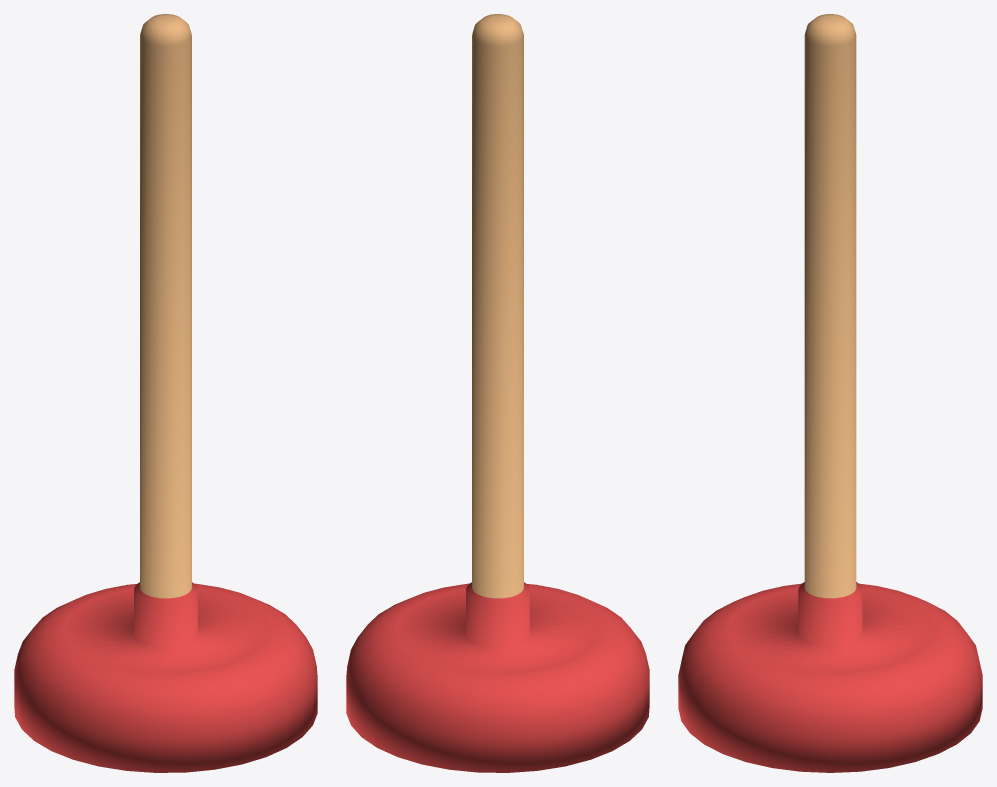
The model's file is plunger.glb.
3 renders of one model, left to right at view 1: azimuth 30°, elevation 25°; view 2: azimuth 150°, elevation 25°; view 3: azimuth 270°, elevation 25°, orthographic.
Parts seen in each view (by area): view 1: Cylinder; view 2: Cylinder; view 3: Cylinder.
Boxes of the visible parts, <box> form: Cylinder: <box>14,14,317,772</box>; Cylinder: <box>346,14,649,772</box>; Cylinder: <box>678,14,982,772</box>.
Bounding box in the file's own units: 4.14 × 10.37 × 4.14.
